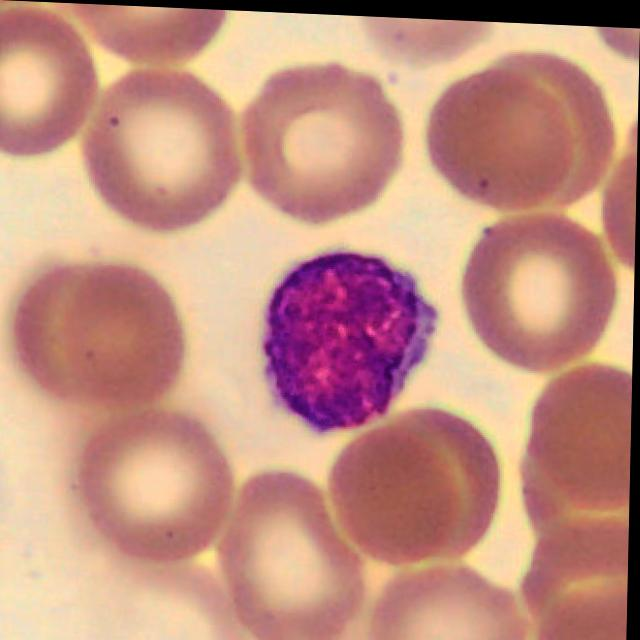Linfocito: (268, 249, 435, 427)
